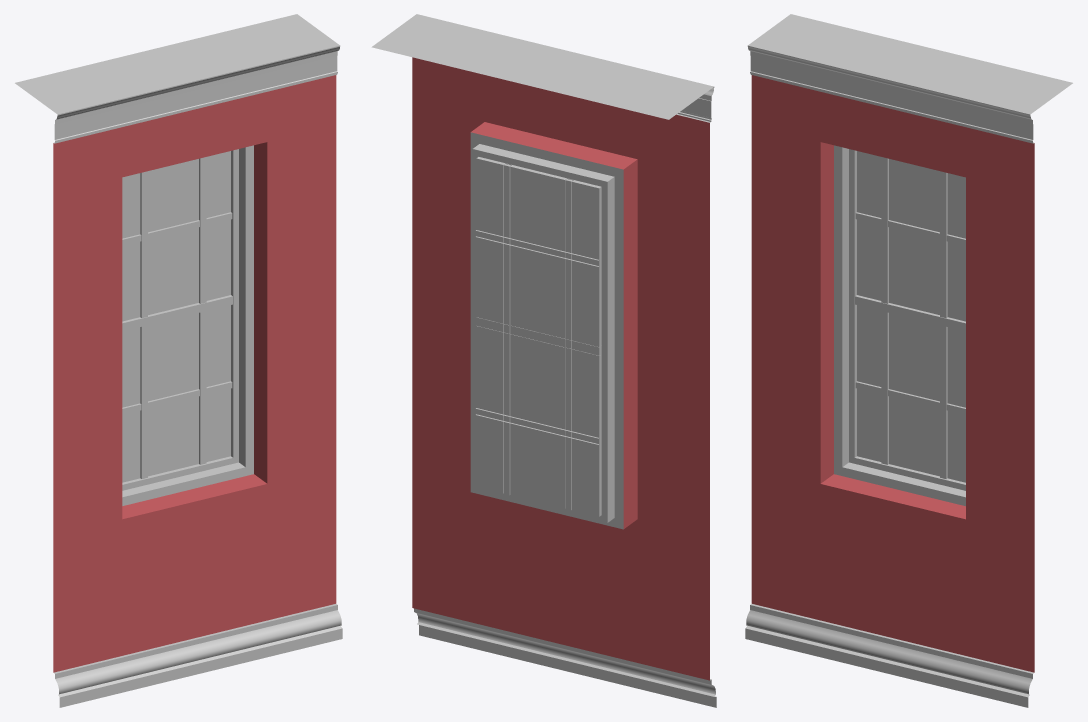
Rendered from station_window.fbx.
The picture shows the model from 3 angles, left to right: view 1: azimuth 30°, elevation 25°; view 2: azimuth 150°, elevation 25°; view 3: azimuth 330°, elevation 25°; orthographic projection. The views are drawn at different scales.
Visible parts, largest first — view 1: window; view 2: window; view 3: window.
Part boxes in pixels (bbox=[...]): window: bbox=[15, 14, 342, 707]; window: bbox=[371, 14, 716, 707]; window: bbox=[745, 14, 1072, 707].
Bounding box in the file's own units: 1.8 × 3.6 × 0.5002.
